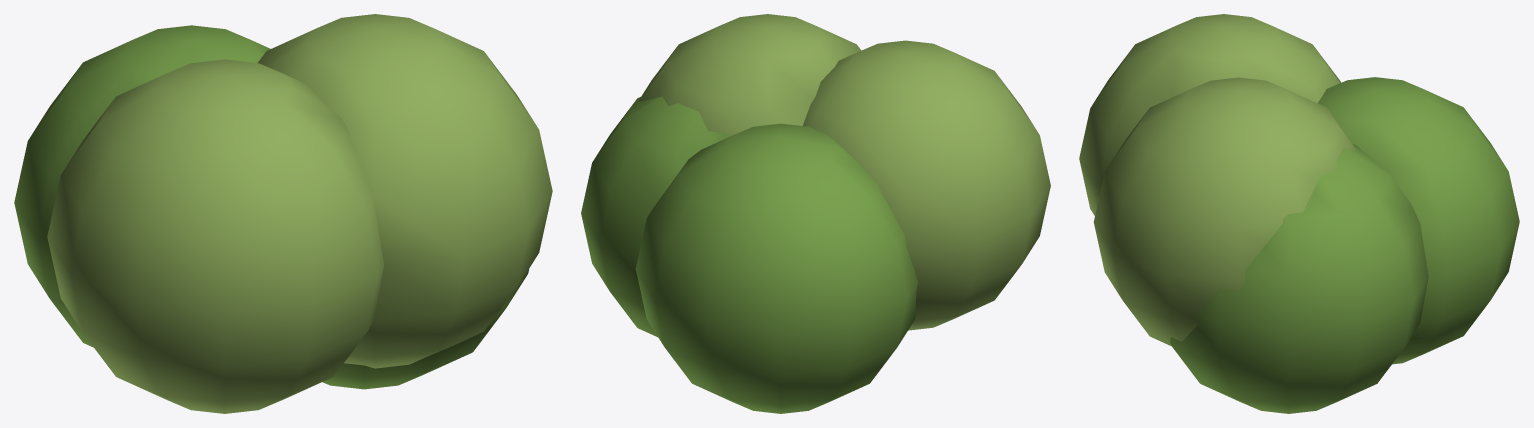
Rendered from bush.glb.
The picture shows the model from 3 angles, left to right: view 1: azimuth 30°, elevation 25°; view 2: azimuth 150°, elevation 25°; view 3: azimuth 270°, elevation 25°; orthographic projection. The views are drawn at different scales.
Parts seen in each view (by area): view 1: bush; view 2: bush; view 3: bush.
Boxes of the visible parts, left/top/right/bottom form: bush: left=14, top=14, right=552, bottom=413; bush: left=581, top=14, right=1050, bottom=413; bush: left=1079, top=14, right=1519, bottom=413.
Size of the model in its own units: 0.6333 by 0.46 by 0.6087.
